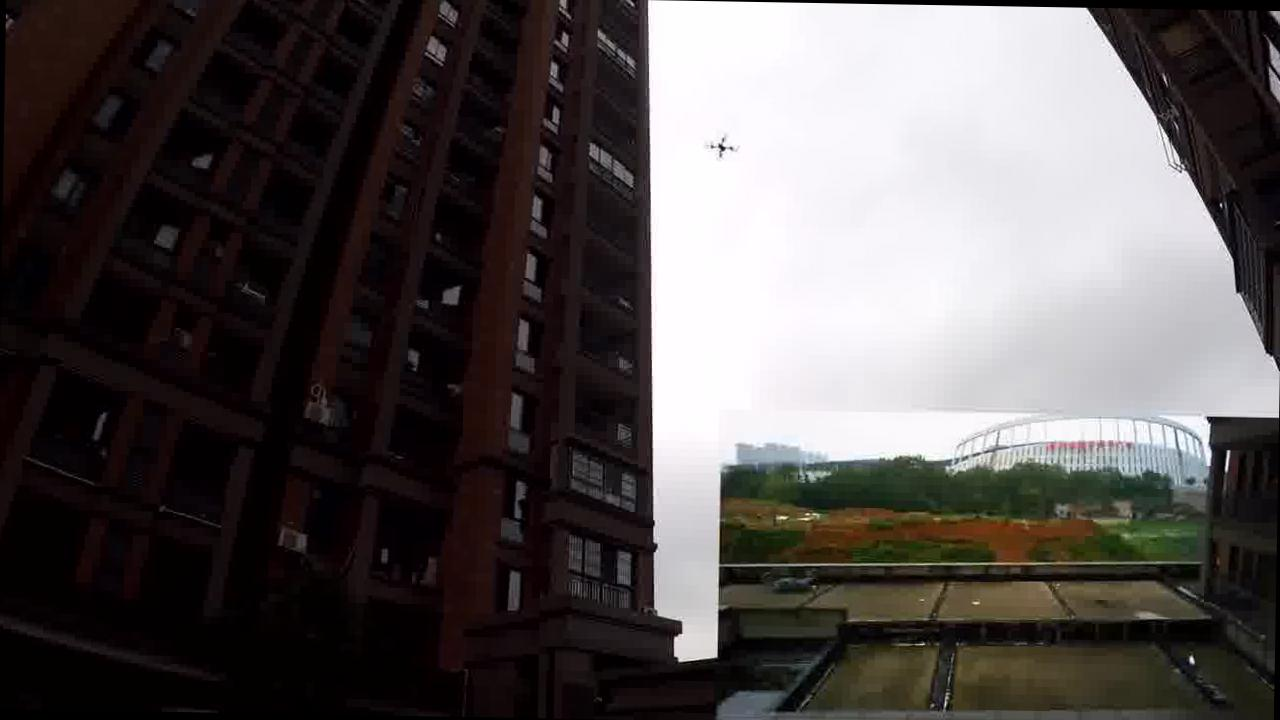drone: (703, 131, 741, 160)
